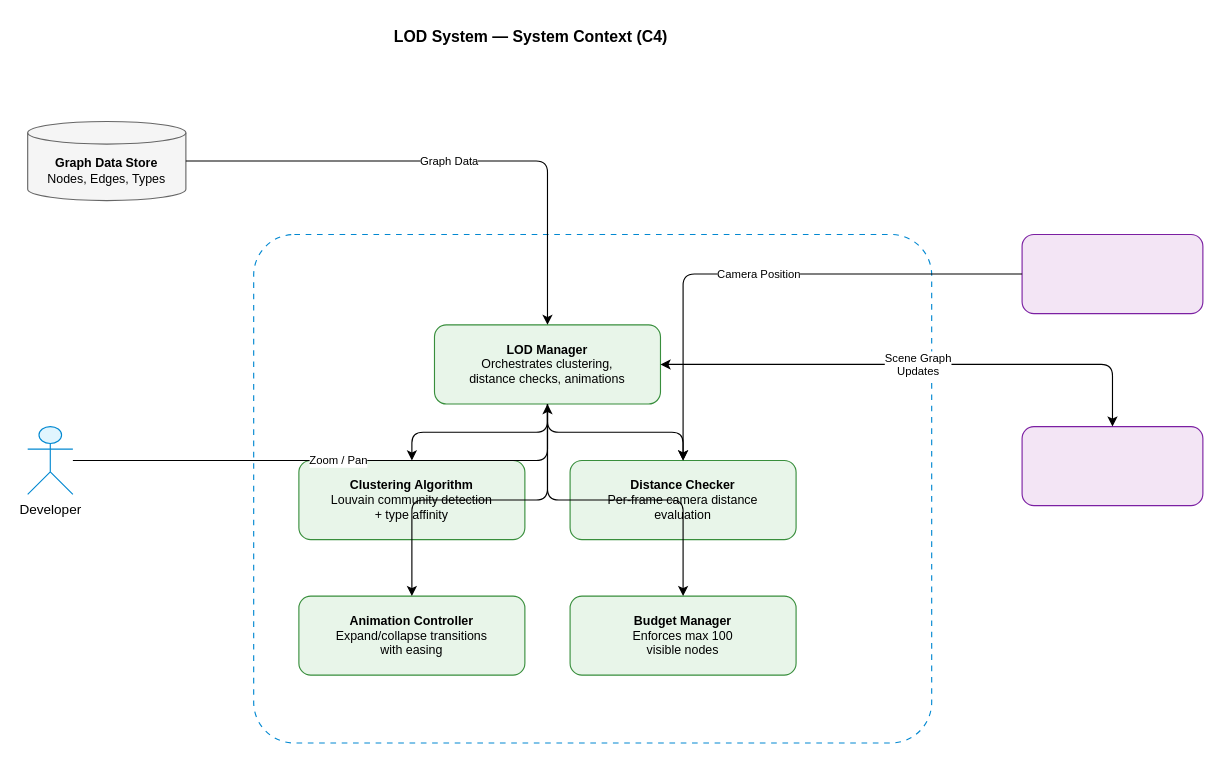
Image size: 1223x763. Some labels were removed from this diagram. The shapes that lost their labels are listed below. From the top down, each one's box as (x1, y1, x2, y2) in pixels, then its label:
(1021, 233, 1203, 314): OrbitControls Camera position + orientation
(1021, 425, 1203, 506): Three.js Renderer WebGL scene graph, camera, controls
(253, 233, 932, 743): LOD / Semantic Zoom System
